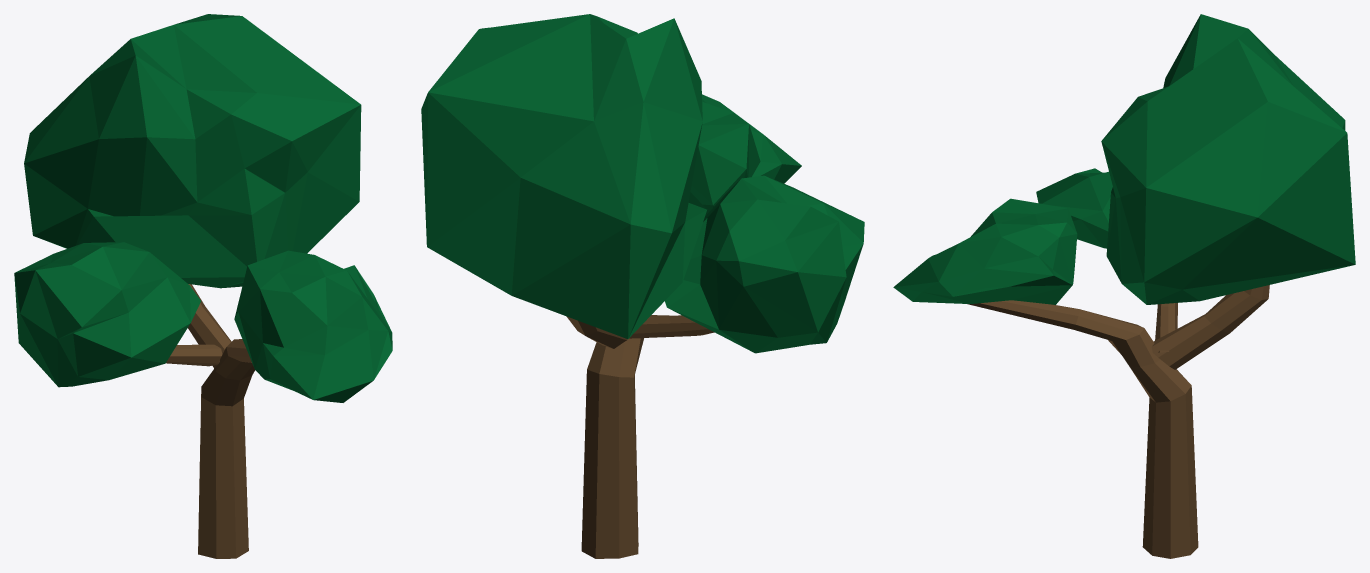
The model's file is low_poly_tree.glb.
3 views of the same model, side by side, from view 1: azimuth 30°, elevation 25°; view 2: azimuth 150°, elevation 25°; view 3: azimuth 270°, elevation 25° (orthographic). The views are drawn at different scales.
Parts seen in each view (by area): view 1: Cube.002_0; view 2: Cube.002_0; view 3: Cube.002_0.
Part boxes in pixels (x1,y1,x2,y2): Cube.002_0: (14,14,392,558); Cube.002_0: (421,14,864,558); Cube.002_0: (893,14,1355,558).
Size of the model in its own units: 6.02 by 8.7 by 7.26.
